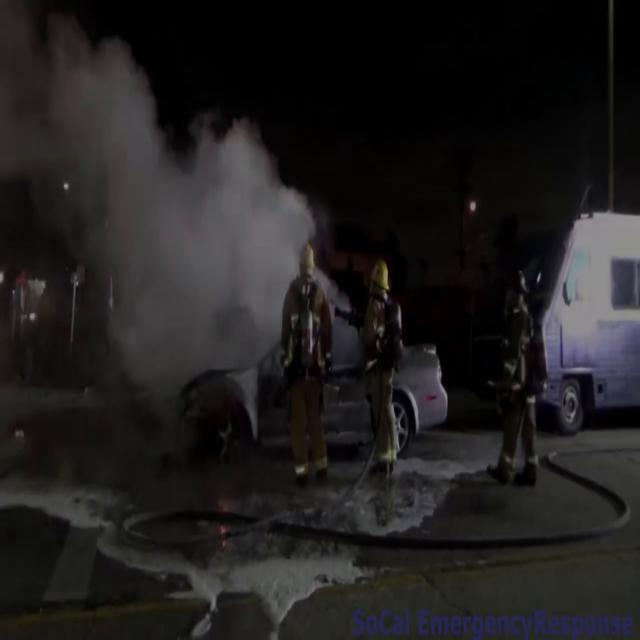Smoke: (73, 41, 314, 378)
